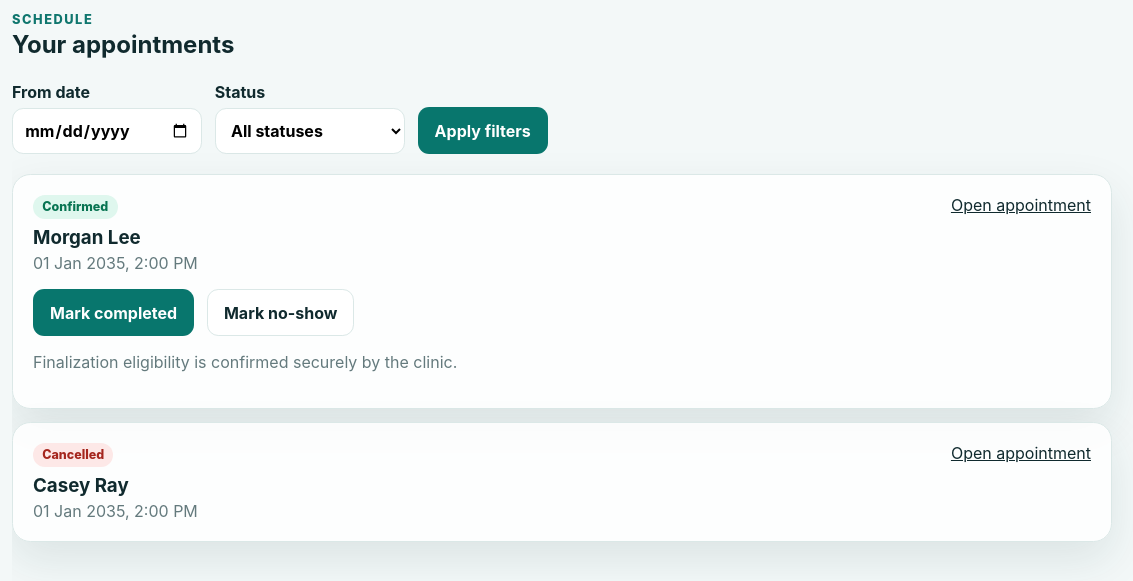
schedule renders representative statuses, applies filters, and completes with refreshed server data
The width and height of the screenshot is (1133, 581).
Check: the heading "Morgan Lee" is shown, box [33,226,141,249]
Check: the heading "Casey Ray" is shown, box [33,474,129,496]
Select "confirmed" in the dropdown labelled "Status" at point(310, 131), box [215,108,405,154]
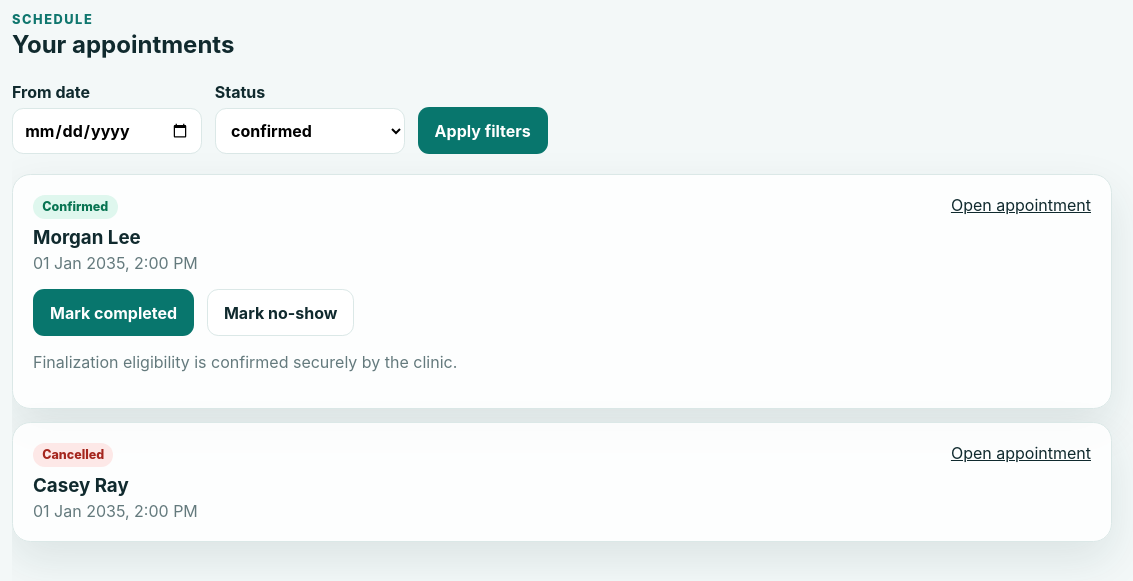
Click the button "Apply filters" at point(483, 131), box [418,107,548,154]
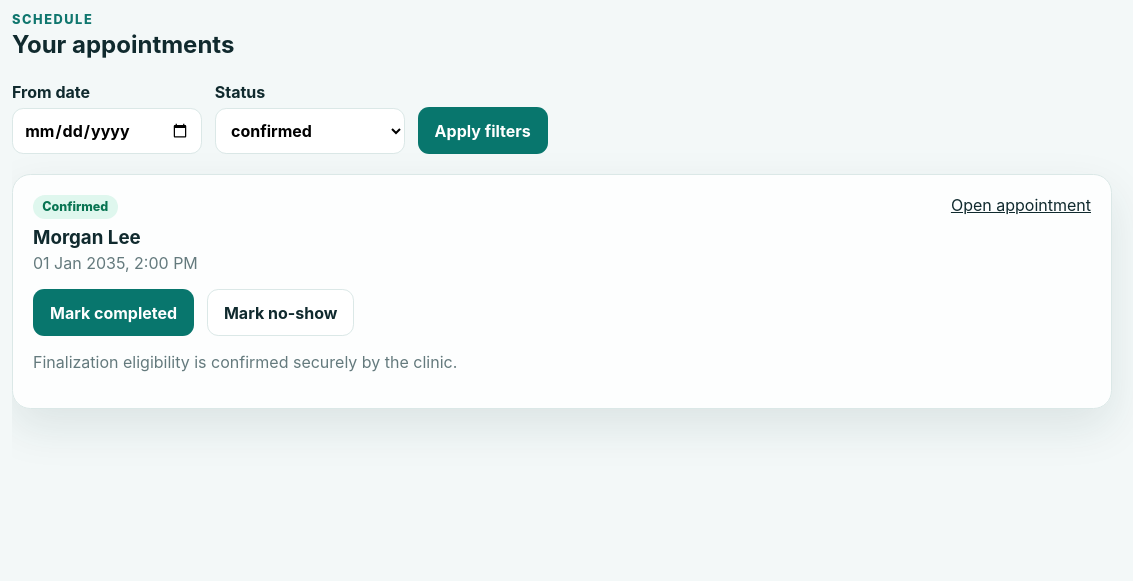
Click the button "Mark completed" at point(114, 312), box [33,289,194,336]
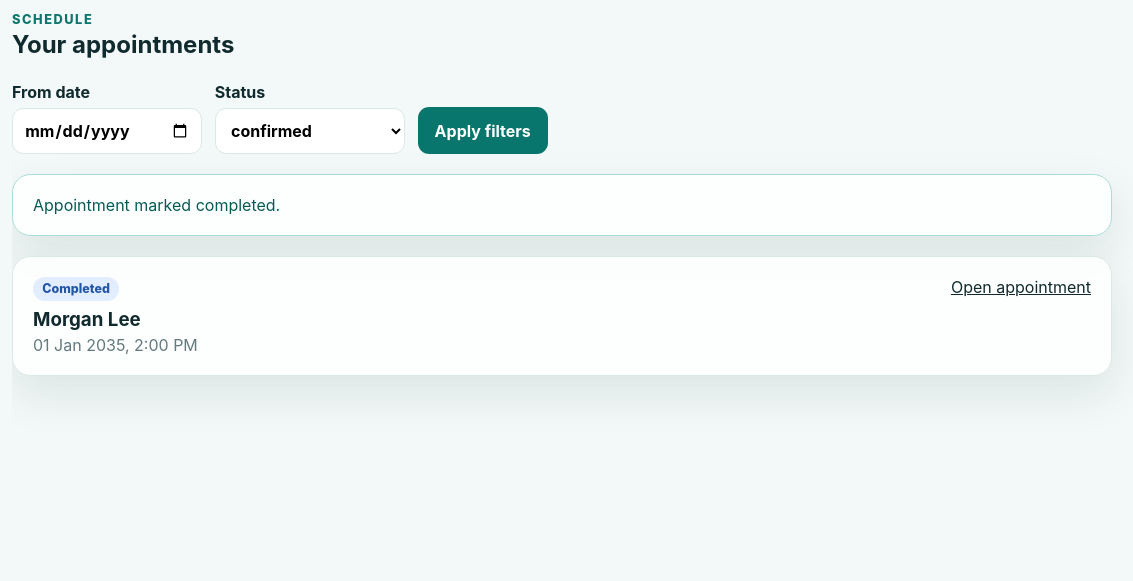
Check: the text "Appointment marked completed." is shown, box [12,174,1112,236]
